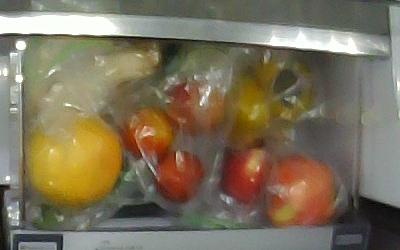apple_vinyl: (267, 156, 339, 227), (218, 143, 276, 205)
grapefruit_vinyl: (32, 116, 124, 204)
persimmon_vinyl: (253, 54, 316, 125), (220, 81, 273, 145)
prune_vinyl: (165, 72, 227, 136), (153, 151, 204, 203), (123, 109, 174, 155)
